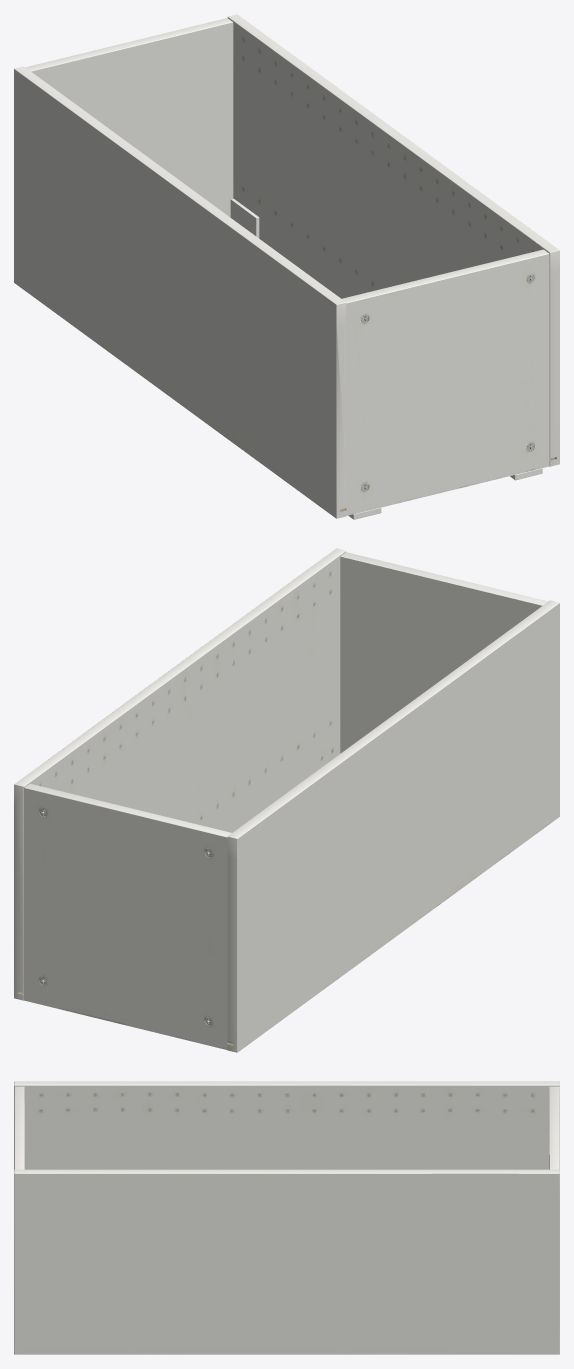
File: Metod50205532-scene-512.glb
3 views of the same model, one above another, from view 1: azimuth 30°, elevation 25°; view 2: azimuth 150°, elevation 25°; view 3: azimuth 270°, elevation 25° (orthographic). The views are drawn at different scales.
Visible parts, largest first — view 1: 50205532-METOD001; view 2: 50205532-METOD001; view 3: 50205532-METOD001.
Part boxes in pixels (x1,y1,x2,y2): 50205532-METOD001: [14, 14, 559, 519]; 50205532-METOD001: [14, 548, 559, 1052]; 50205532-METOD001: [14, 1081, 559, 1354].
Size of the model in its own units: 0.4001 by 0.3761 by 1.
Materials: 1 (1 with a texture image).
